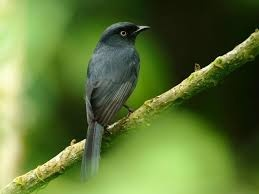bird: (70, 20, 152, 179)
